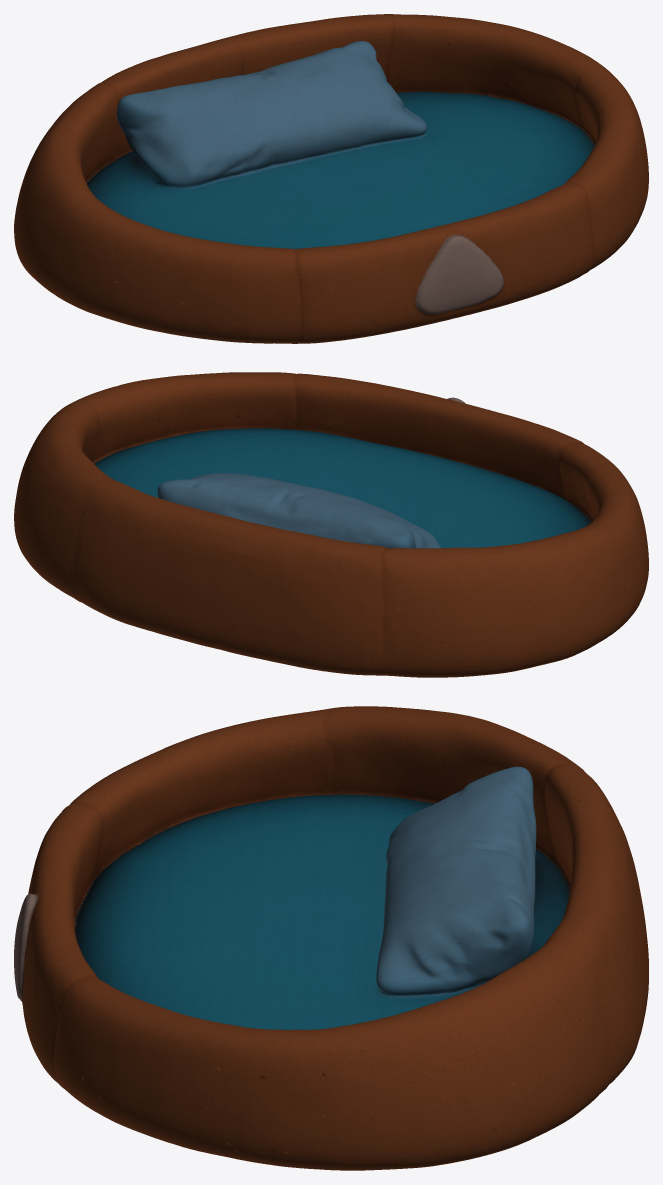
Rendered from Copilot3D-ab9de73d-1bd3-4077-8bde-5e97a96406ce.glb.
3 views of the same model, one above another, from view 1: azimuth 30°, elevation 25°; view 2: azimuth 150°, elevation 25°; view 3: azimuth 270°, elevation 25° (orthographic). The views are drawn at different scales.
Parts seen in each view (by area): view 1: world; view 2: world; view 3: world.
Boxes of the visible parts, x1,y1,x2,y2 form: world: [14, 14, 648, 343]; world: [14, 372, 648, 677]; world: [14, 706, 648, 1170].
Size of the model in its own units: 1 by 0.2031 by 0.7441.
1 material, 1 textured.
